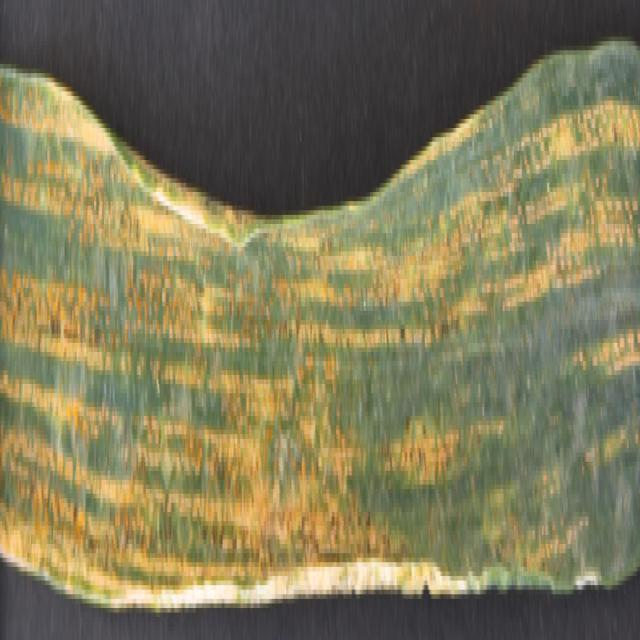leaf rust: (0, 82, 640, 598)
